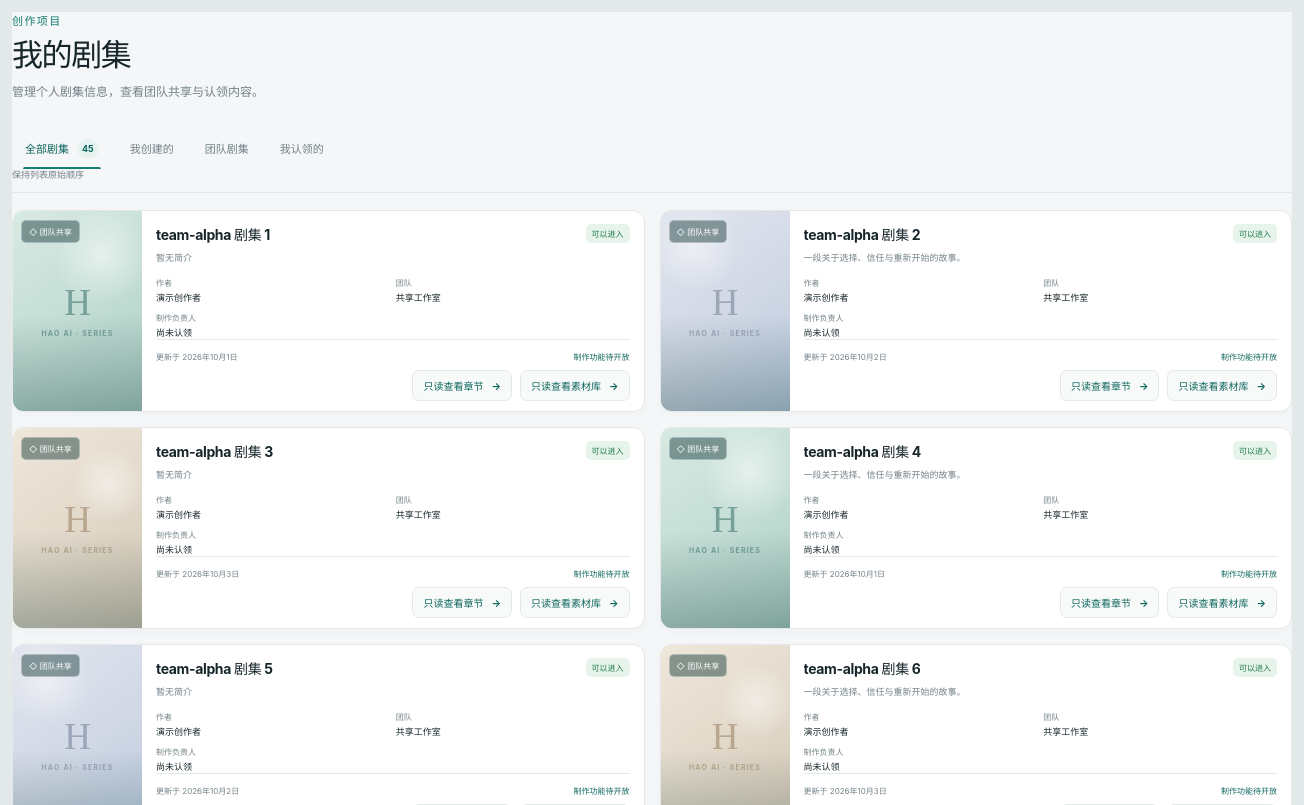
Test: SeriesPage list behavior › applies a directory refresh against the selection current when it settles
This screenshot has width=1304, height=805.
Step 1. Click the button "团队剧集" → [227, 148], box [192,128,262,168]
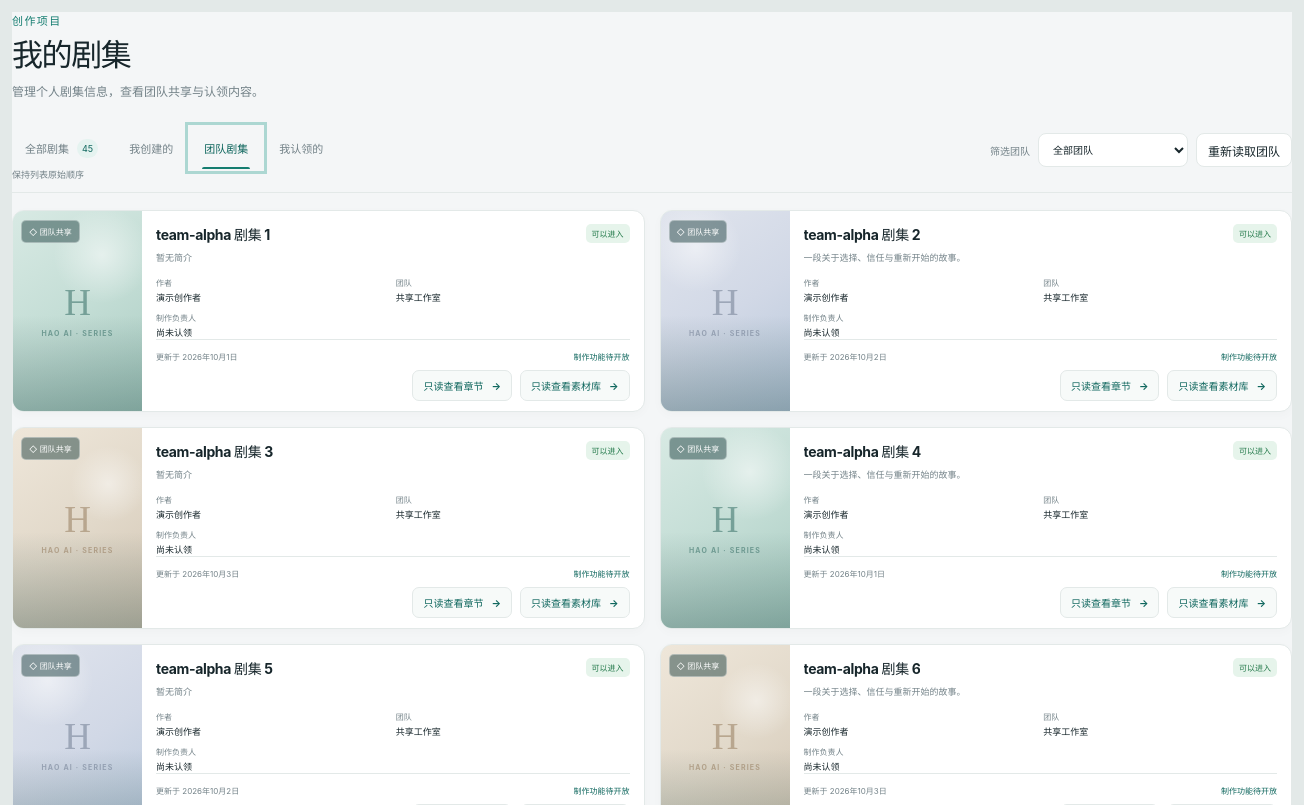
Step 2. Select "共享工作室" in the dropdown labelled "筛选团队" → [1113, 150], box [1038,133,1188,167]
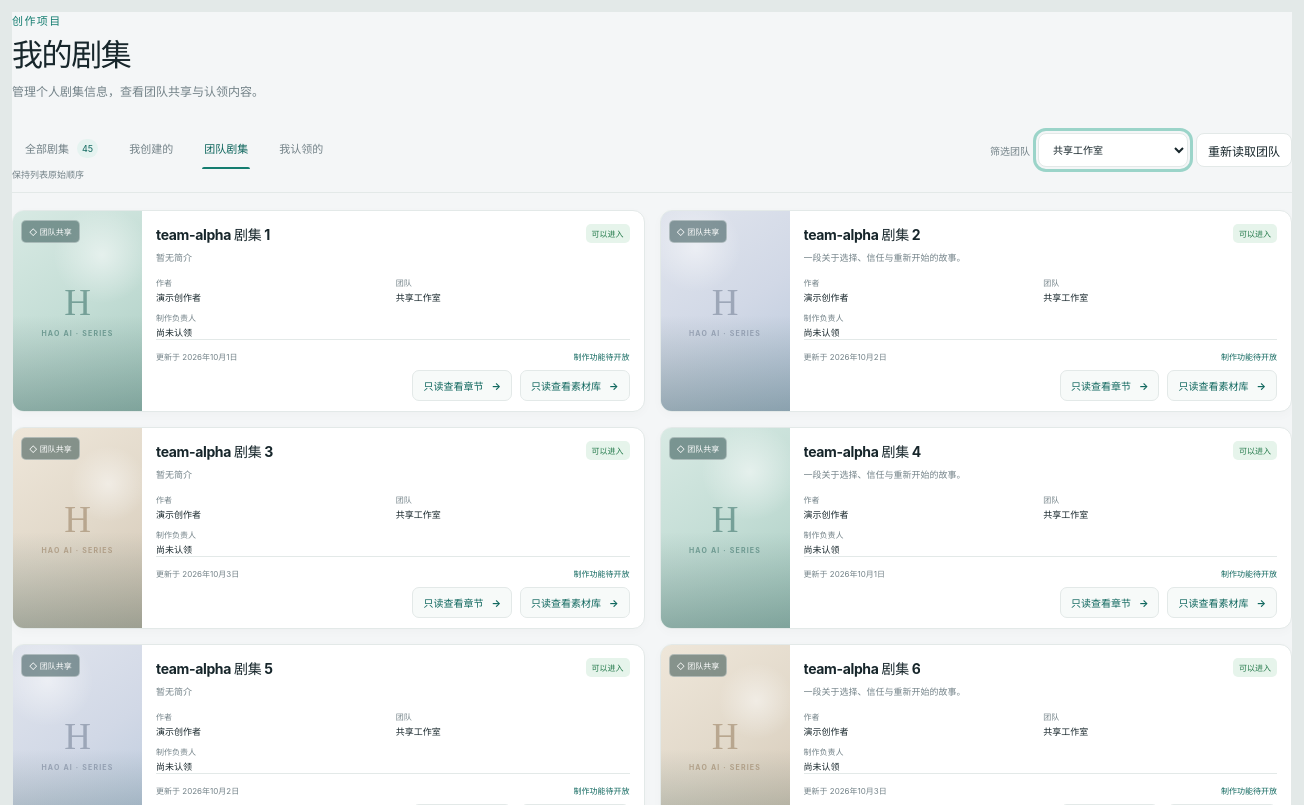
Step 3. Click the button "重新读取团队" → [1244, 150], box [1196,133,1292,167]
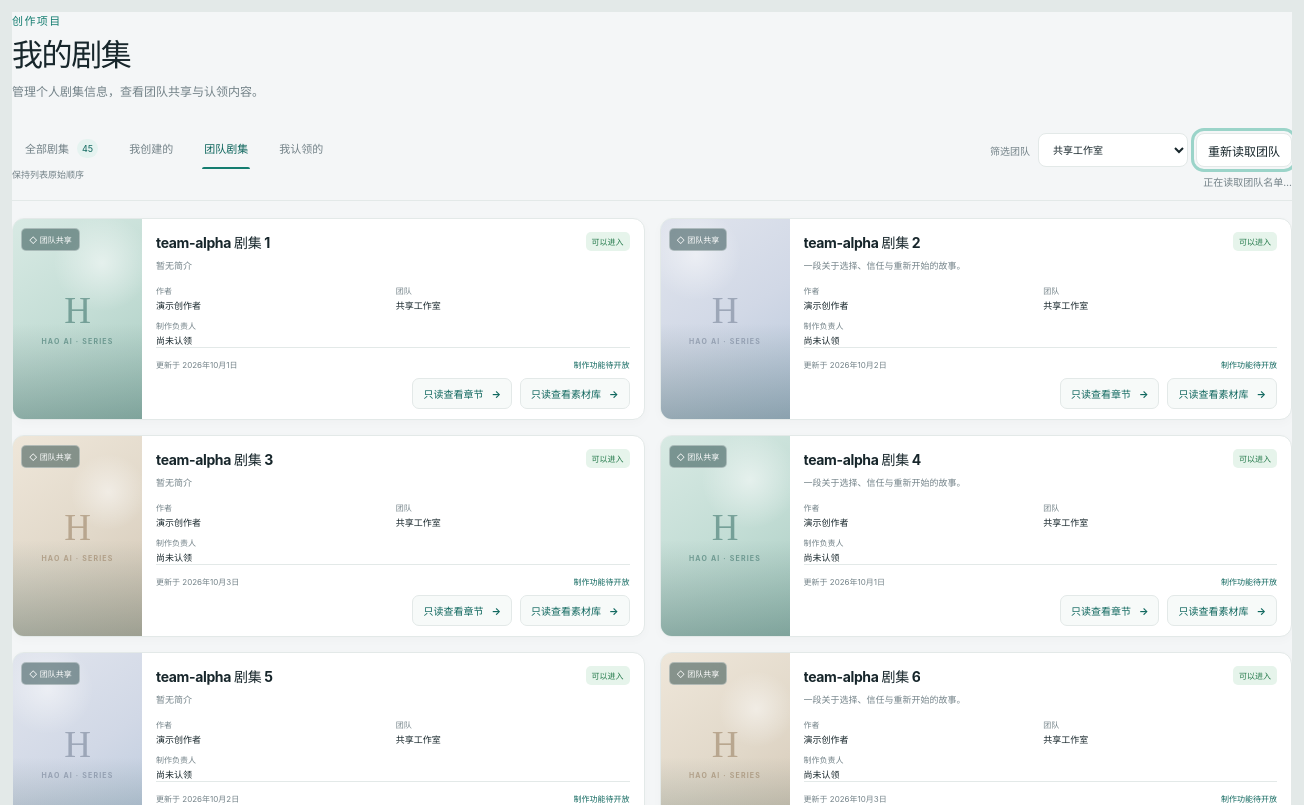
Step 4. Select "备用工作室" in the dropdown labelled "筛选团队" → [1113, 150], box [1038,133,1188,167]
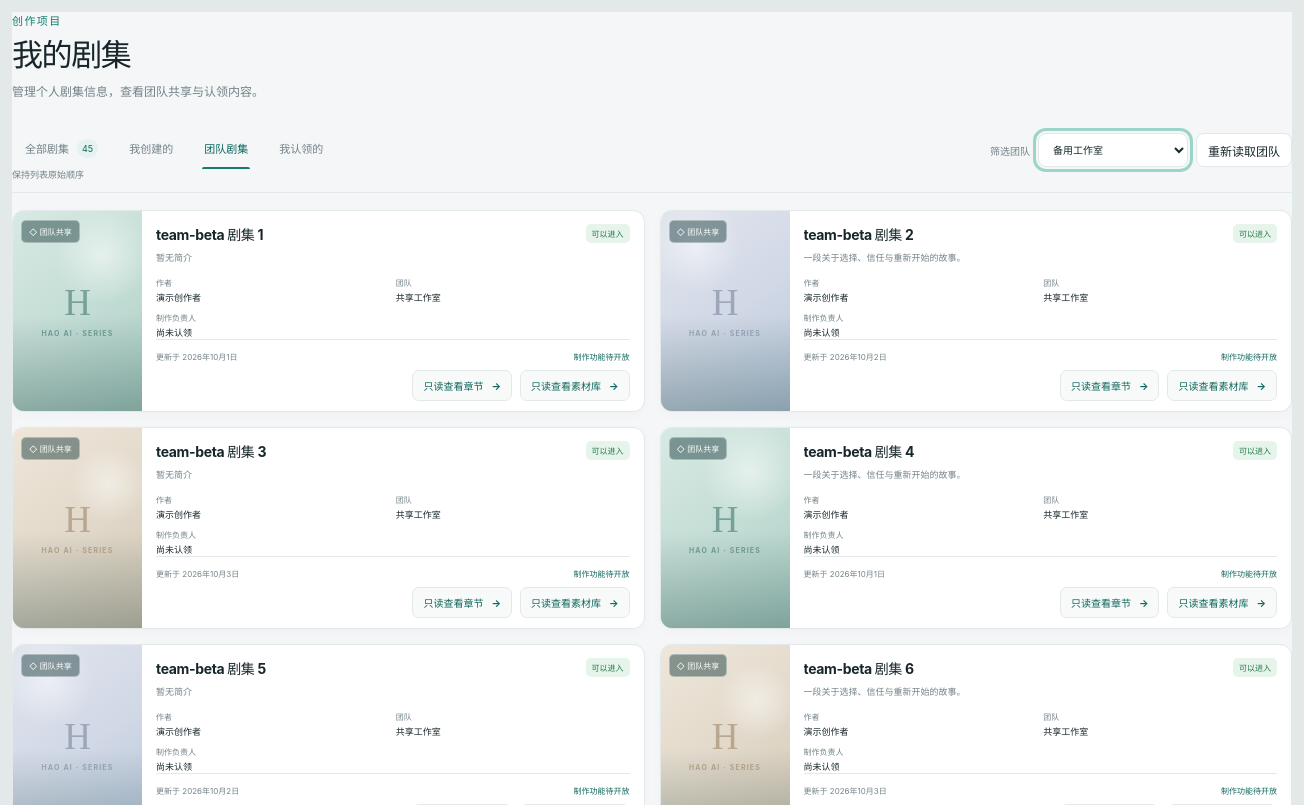
Check: the heading "team-beta 剧集 1" is shown, box [156,224,263,244]
Step 5. Click the button "重新读取团队" → [1244, 150], box [1196,133,1292,167]
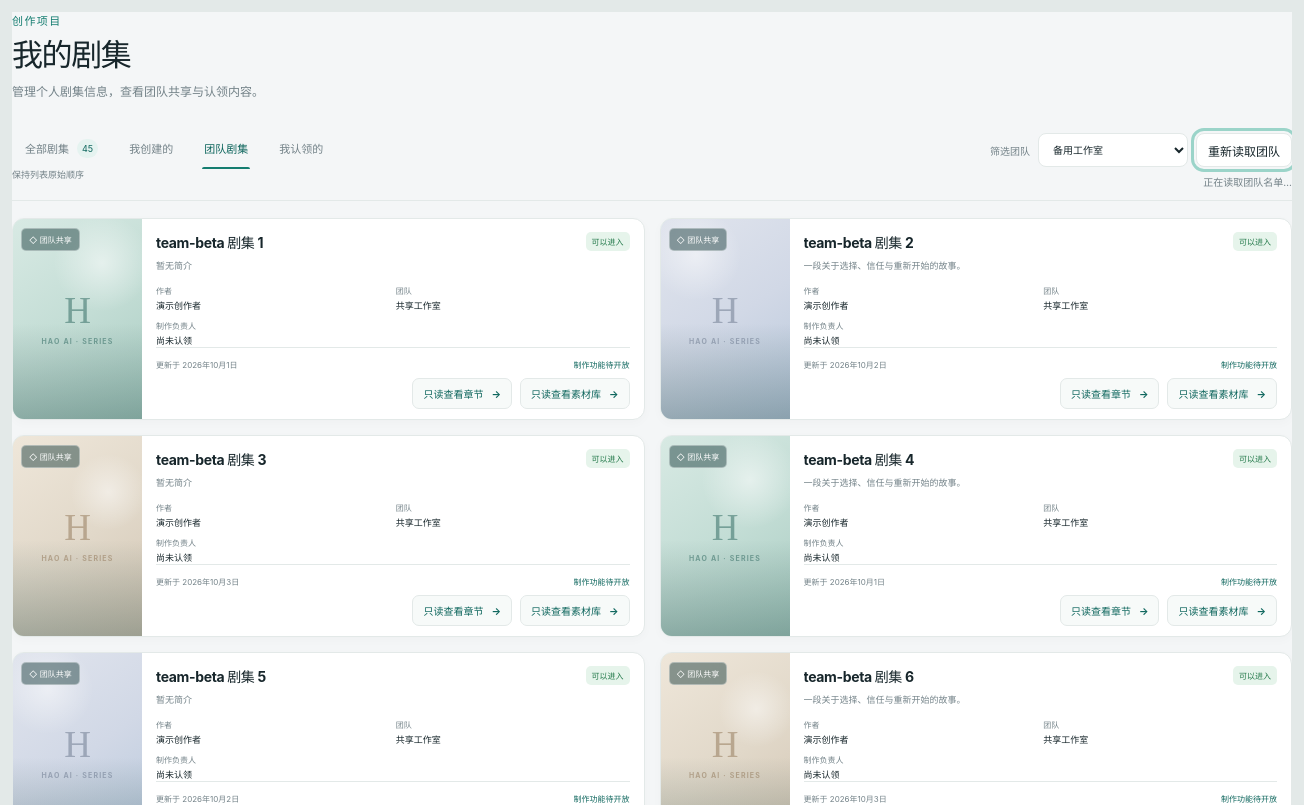
Check: the text "正在读取团队名单…" is shown, box [1203,176,1292,188]
Step 6. Select "备用工作室" in the dropdown labelled "筛选团队" → [1113, 150], box [1038,133,1188,167]
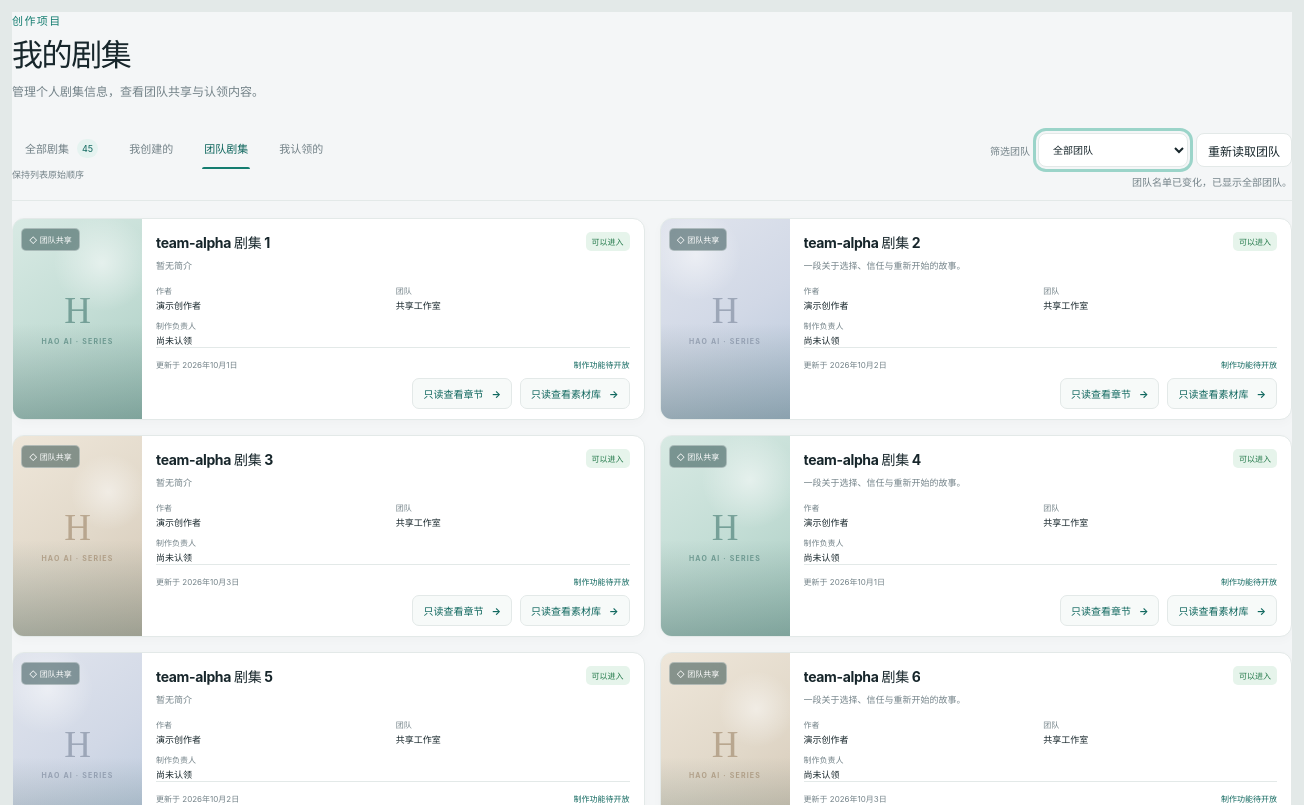
Check: the message shows "团队名单已变化", box [1132,176,1292,188]
